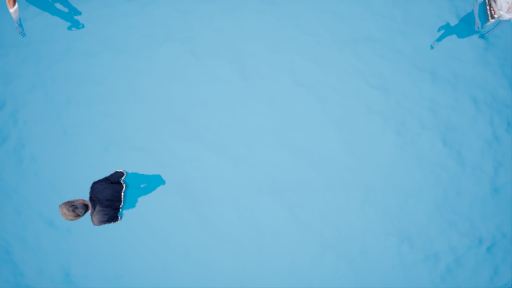person: (60, 166, 185, 225)
